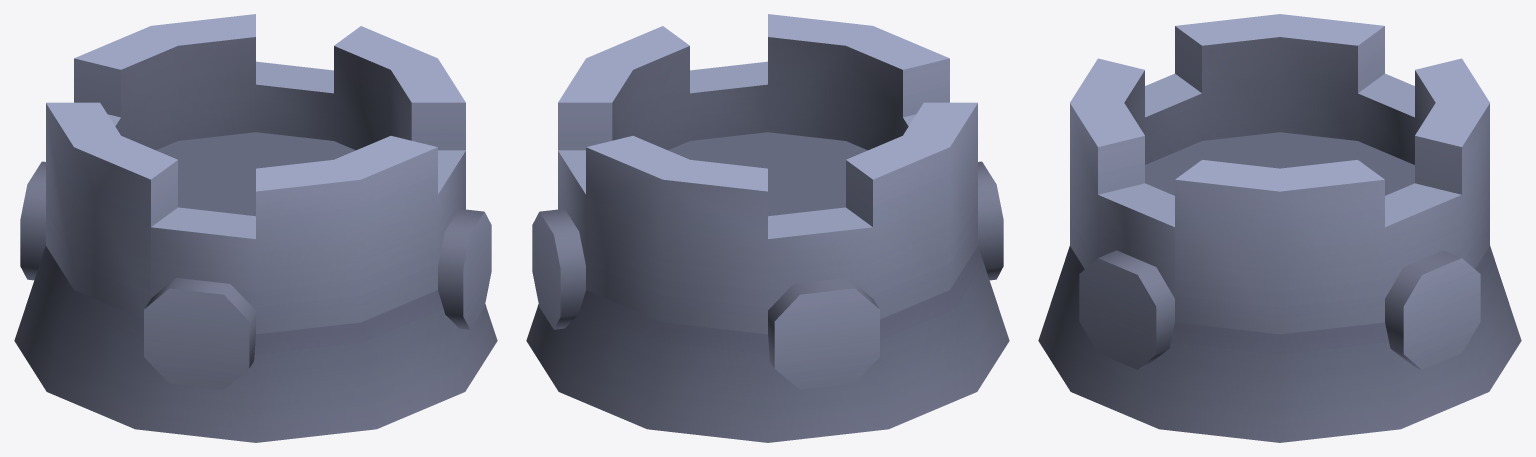
Rendered from tower-round-top-a.glb.
3 renders of one model, left to right at view 1: azimuth 30°, elevation 25°; view 2: azimuth 150°, elevation 25°; view 3: azimuth 270°, elevation 25°, orthographic.
Parts seen in each view (by area): view 1: tower-round-top-a; view 2: tower-round-top-a; view 3: tower-round-top-a.
Boxes of the visible parts, x1,y1,x2,y2 form: tower-round-top-a: (14,14,497,442); tower-round-top-a: (526,14,1009,442); tower-round-top-a: (1038,14,1521,442).
Size of the model in its own units: 0.92 by 0.5001 by 0.92.
Materials: 1 (1 with a texture image).
